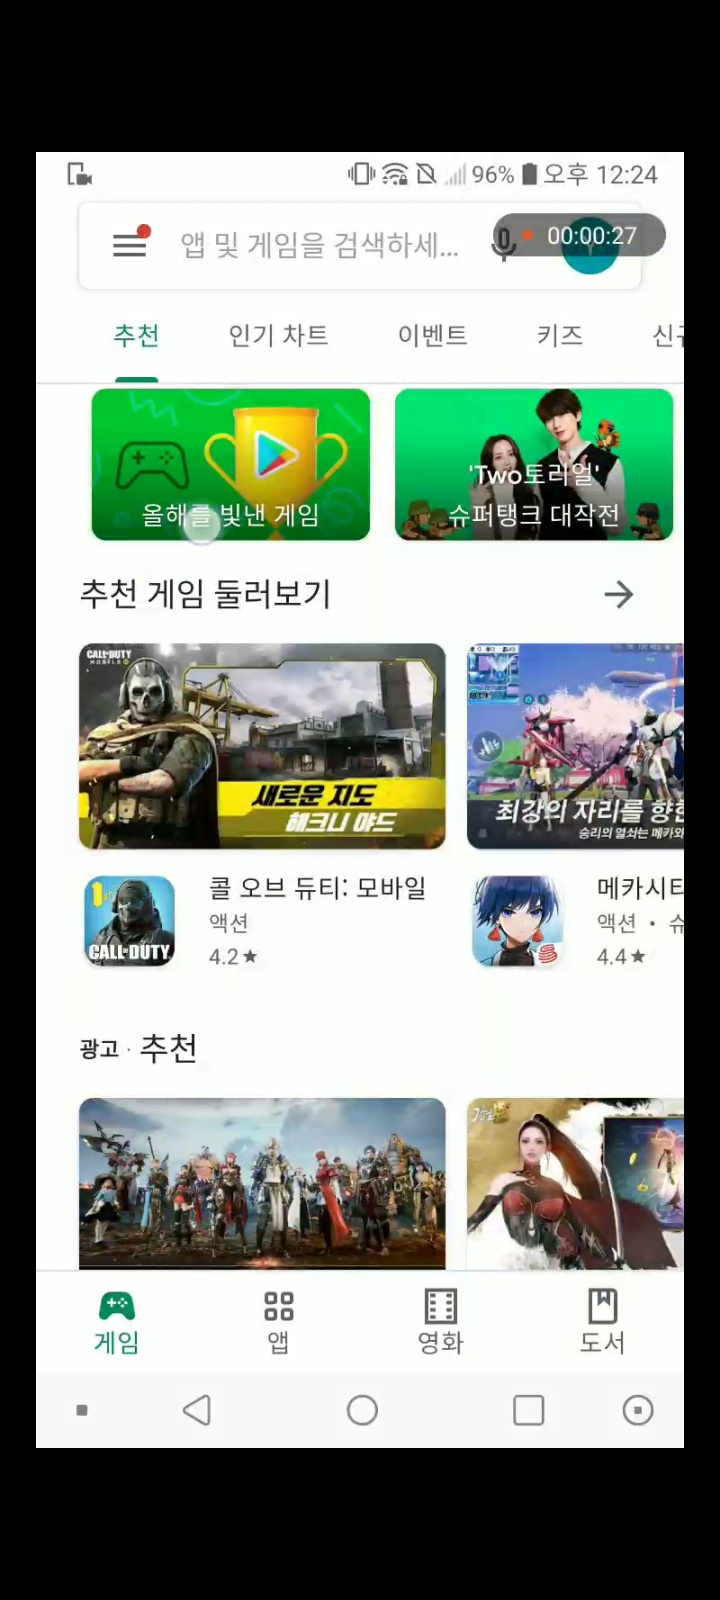Cursor: (179, 503, 224, 548)
